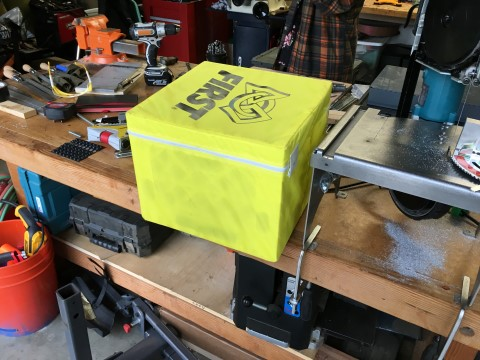cube: (127, 60, 334, 263)
